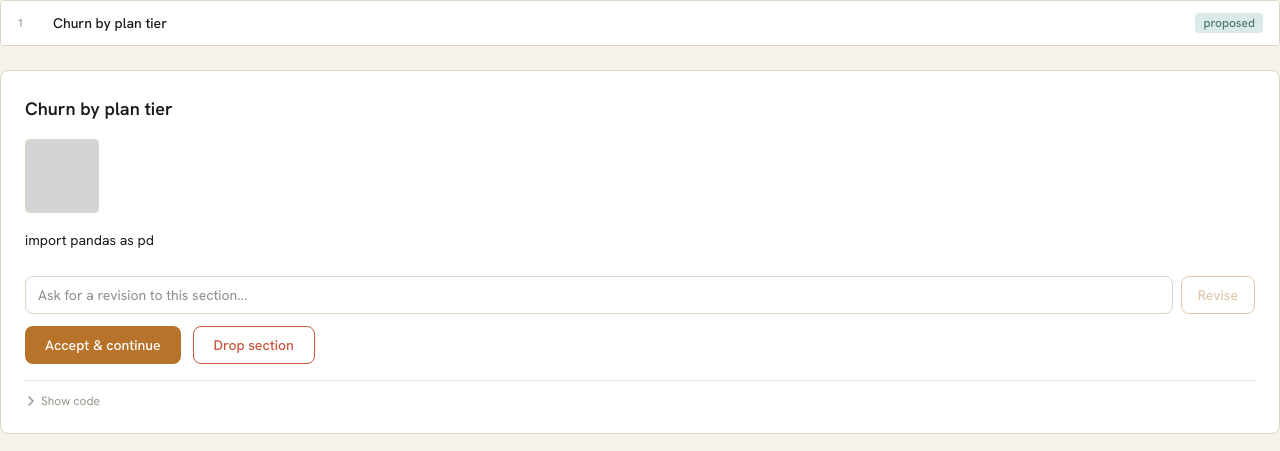
it: BuildView › test_drop_removes_section_pane — clicking drop hides the corresponding detail pane
Step 1. Click the button with test id "section-drop-btn" → (254, 345), box [192,326,315,364]
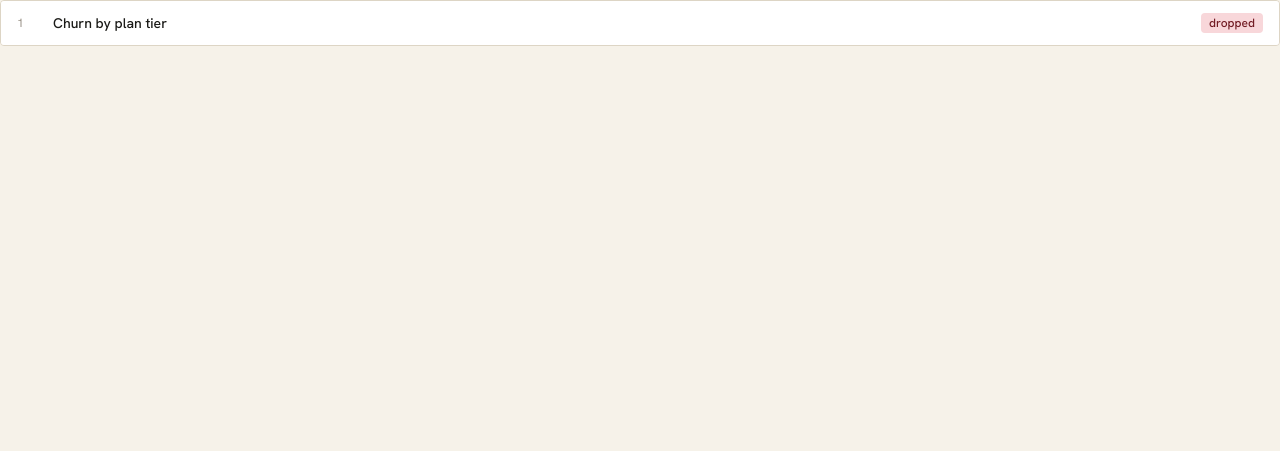
Check: the element with test id "section-pane" is gone
